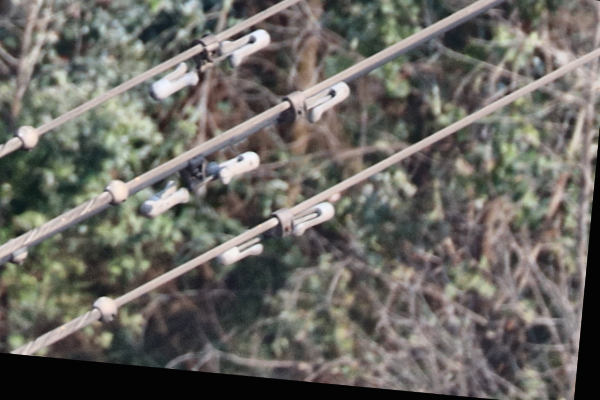damper: (143, 25, 273, 104), (134, 145, 261, 219), (215, 196, 337, 271)
damper_defect: (272, 75, 352, 137)
